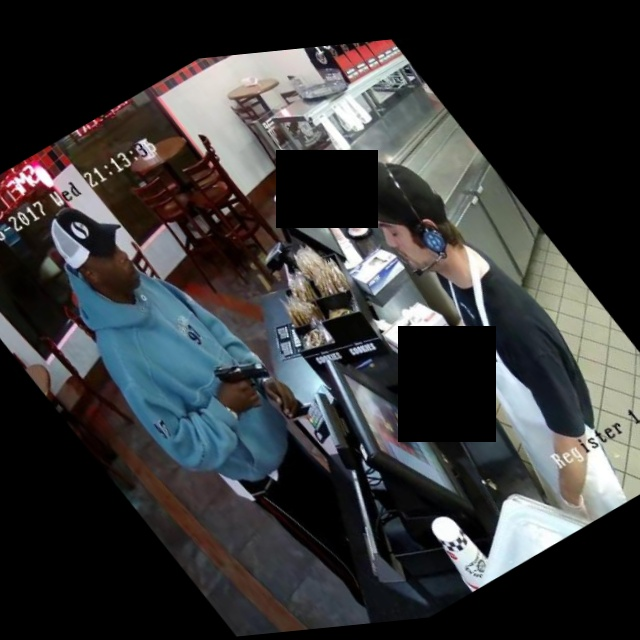gun: (192, 332, 294, 422)
